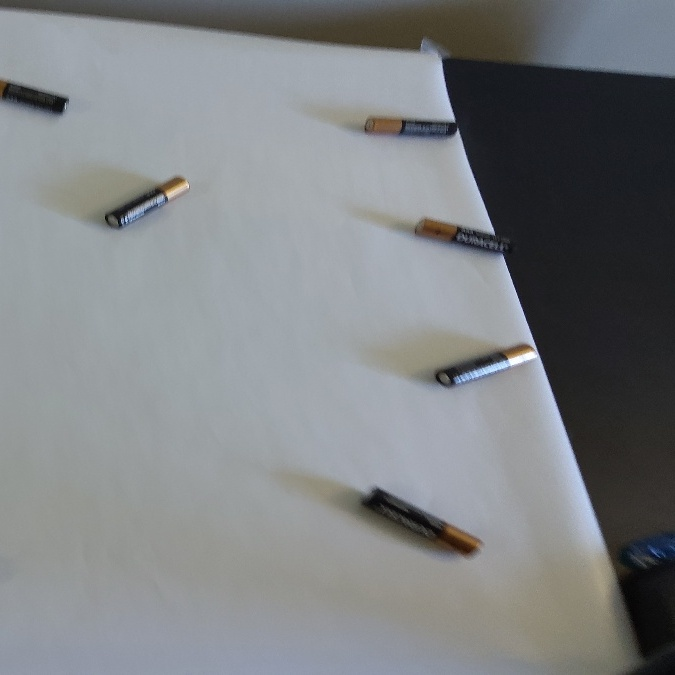battery: (355, 474, 494, 567), (416, 325, 542, 398), (107, 162, 196, 238), (410, 210, 511, 260), (344, 108, 467, 143)
